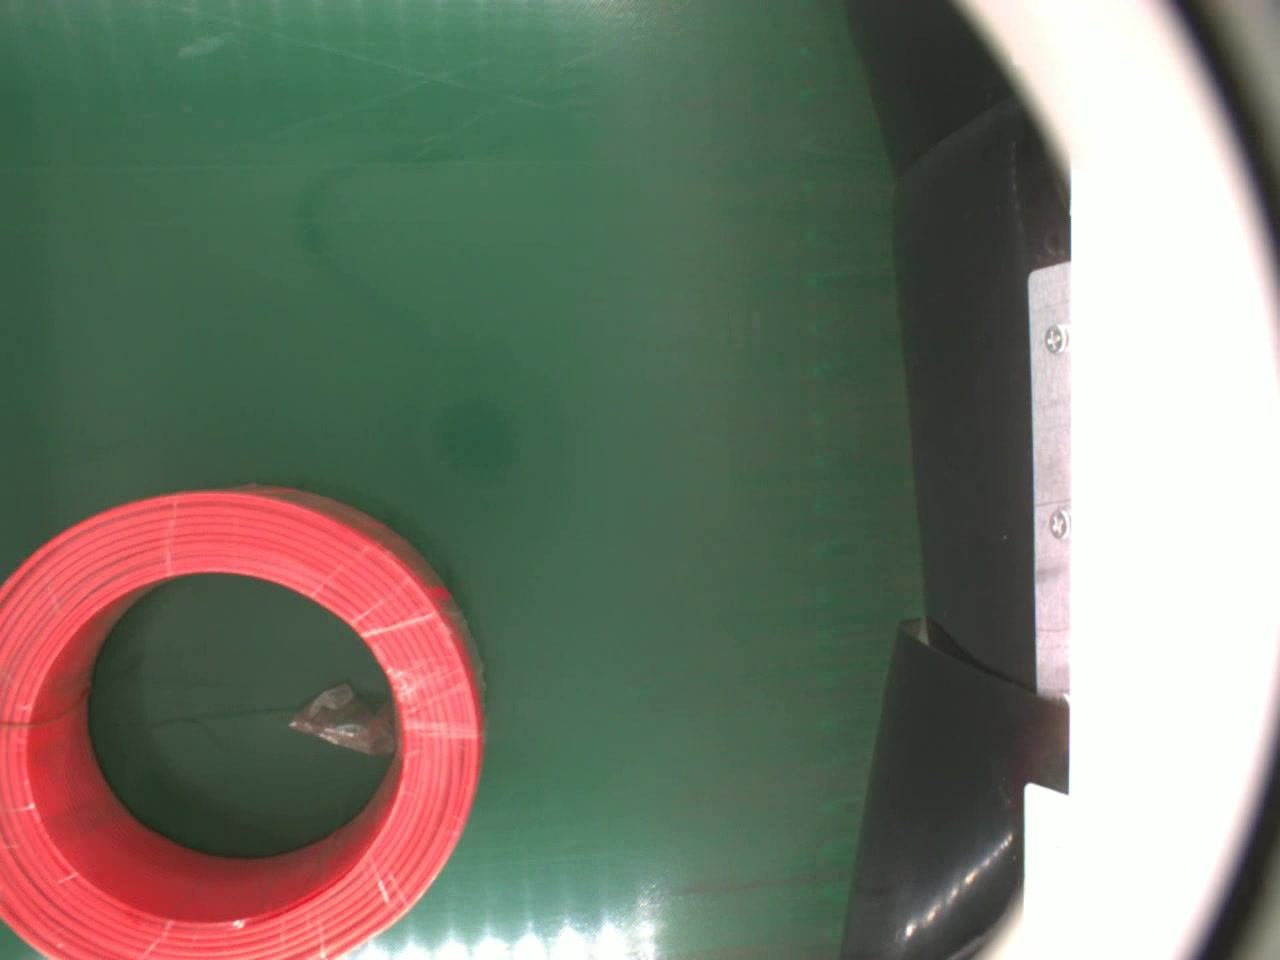red: (0, 480, 488, 960)
